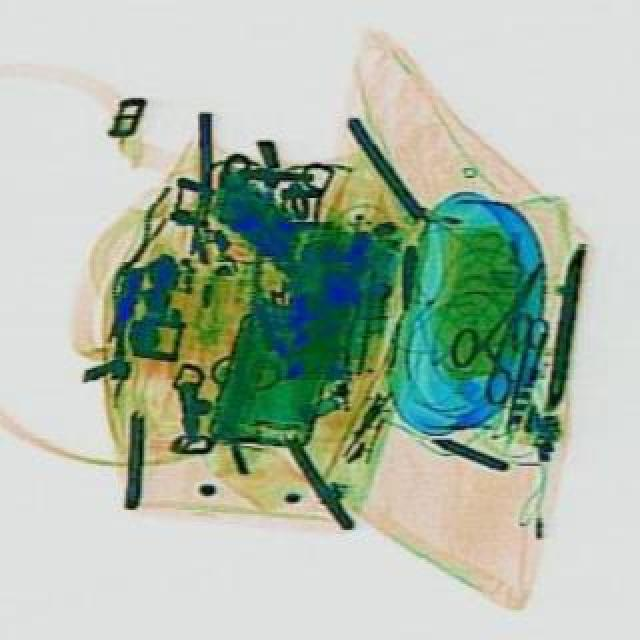pliers: (430, 242, 580, 406), (488, 308, 550, 436)
